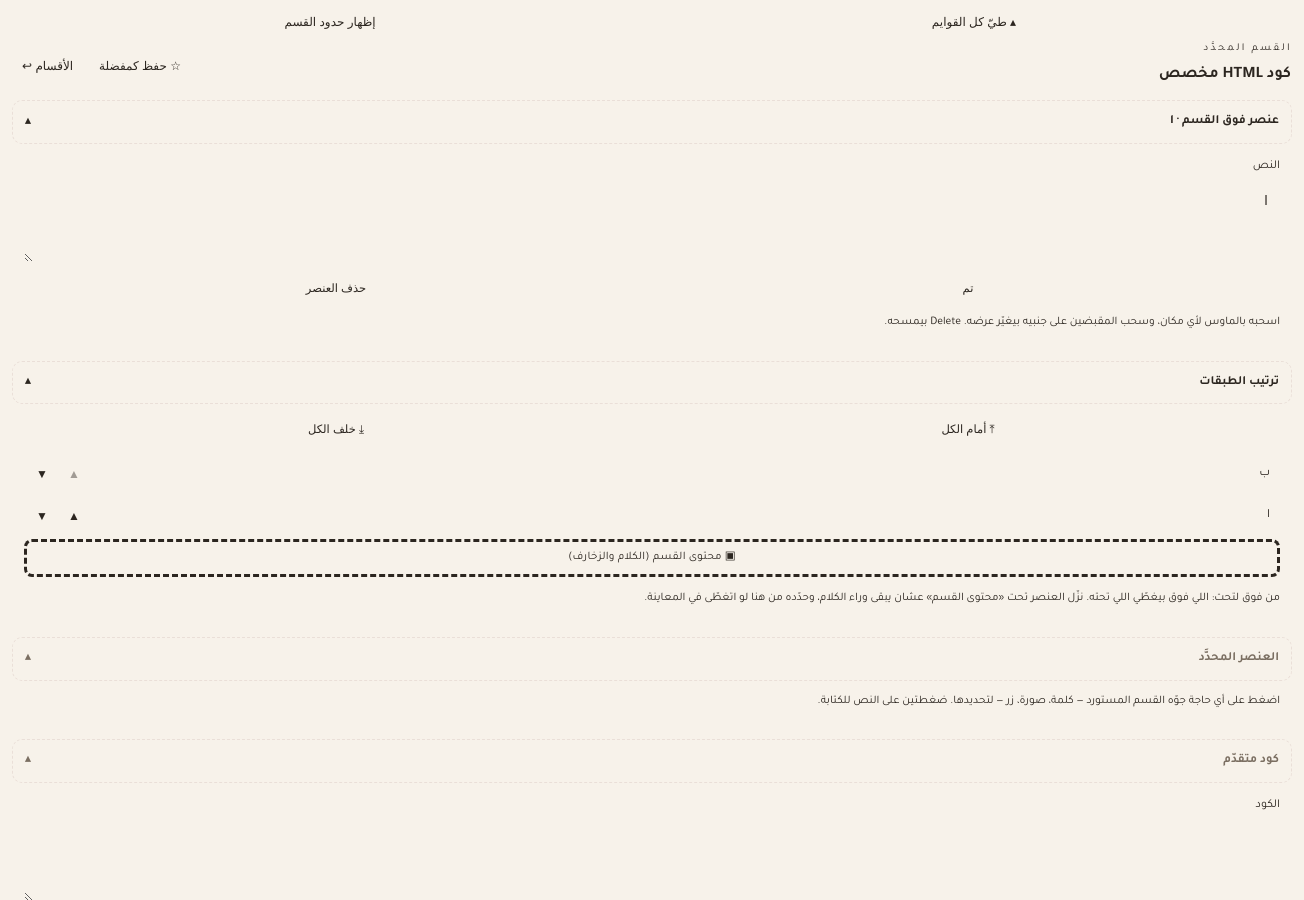
it: selected overlay panel › shows nothing until an overlay is selected, and delete / done close it
The width and height of the screenshot is (1304, 900).
Click the button "حذف العنصر" at (336,288), box x1=24 y1=275 x2=648 y2=301
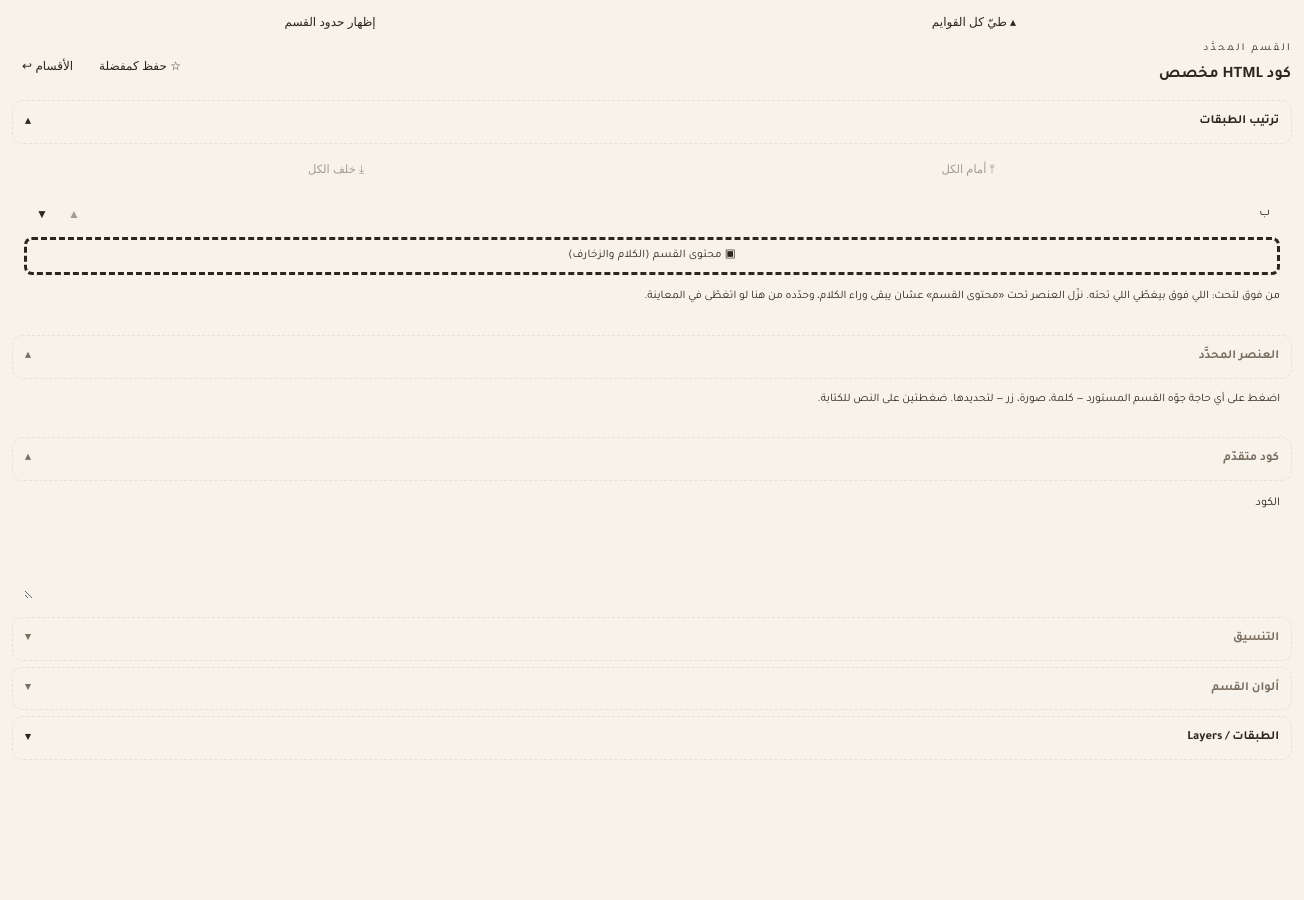
expect the element with class "ed-overlay-panel" is gone: met
